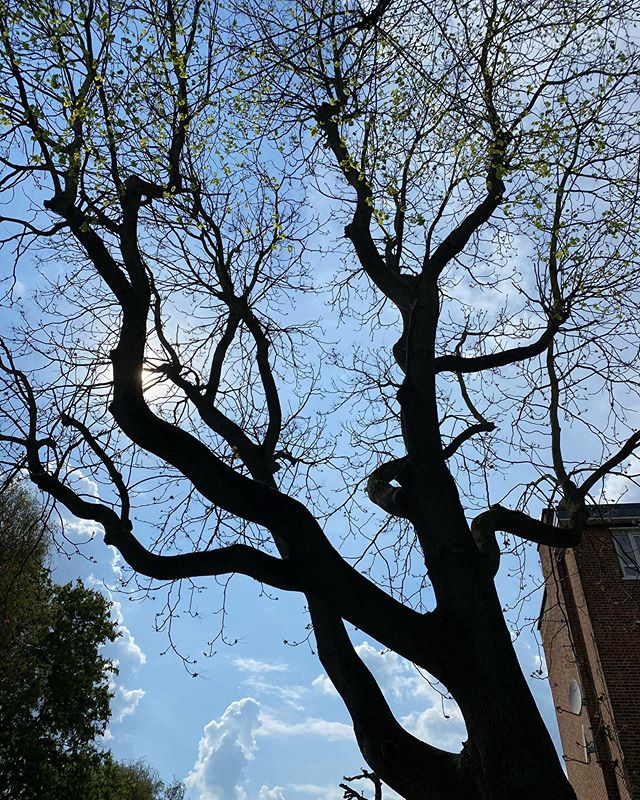building: (544, 505, 640, 800)
tree: (1, 1, 578, 797)
